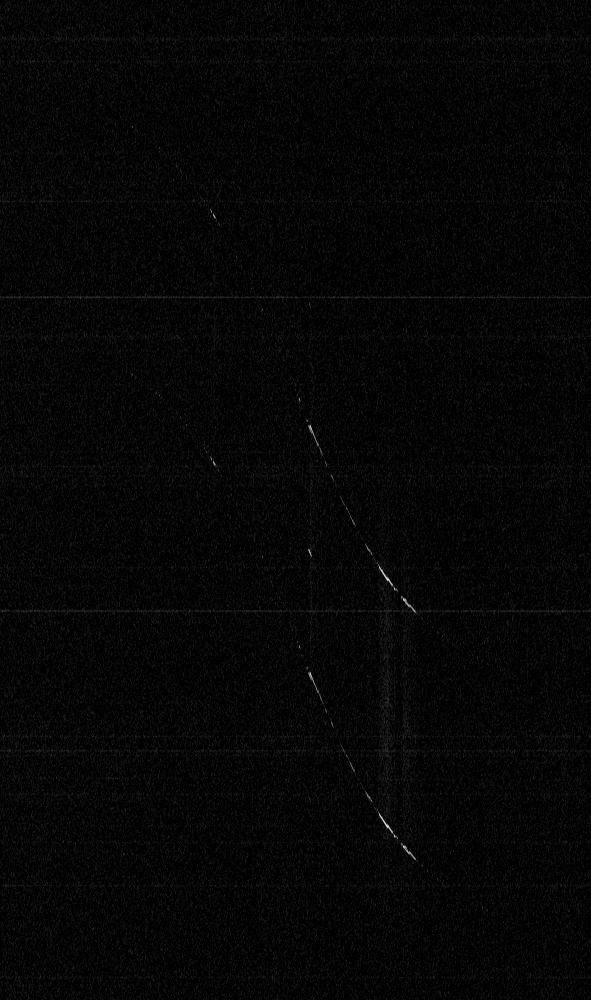signal: (0, 0, 590, 999)
